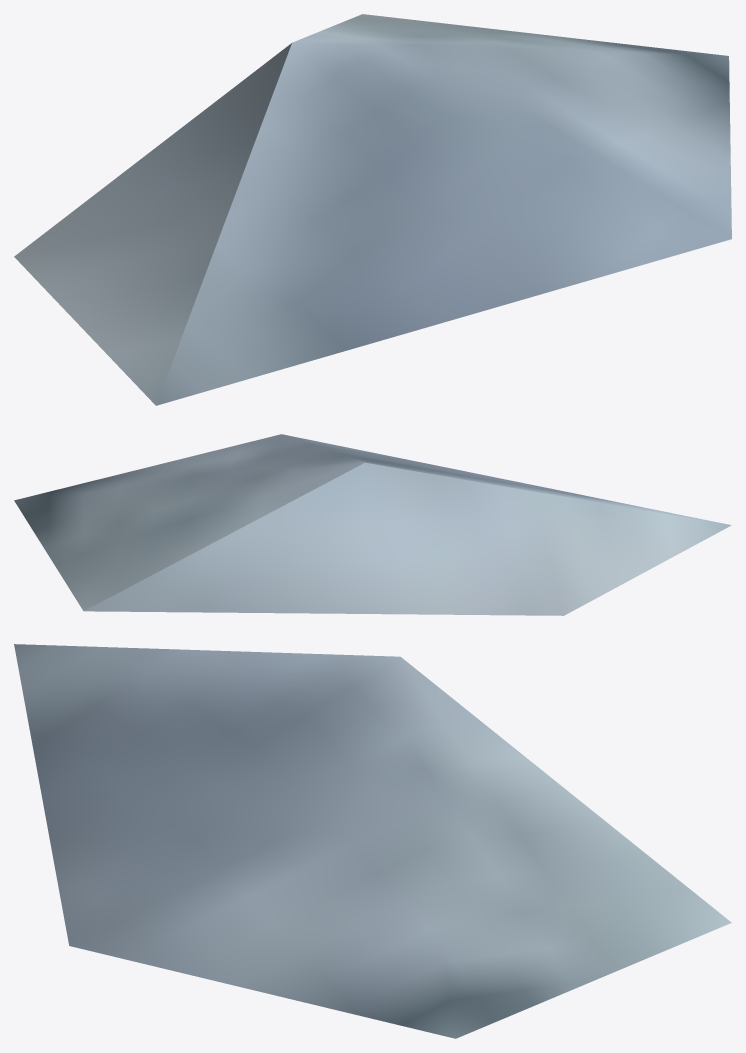
3 renders of one model, top to bottom at view 1: azimuth 30°, elevation 25°; view 2: azimuth 150°, elevation 25°; view 3: azimuth 270°, elevation 25°, orthographic. The views are drawn at different scales.
Visible parts, largest first — view 1: 3043627270436140565_0; view 2: 3043627270436140565_0; view 3: 3043627270436140565_0.
Part boxes in pixels (x1,y1,x2,y2): 3043627270436140565_0: [14, 14, 731, 405]; 3043627270436140565_0: [14, 434, 731, 615]; 3043627270436140565_0: [14, 644, 731, 1038].
Bounding box in the file's own units: 5.22 × 0.9246 × 4.01.
Materials: 1 (1 with a texture image).
